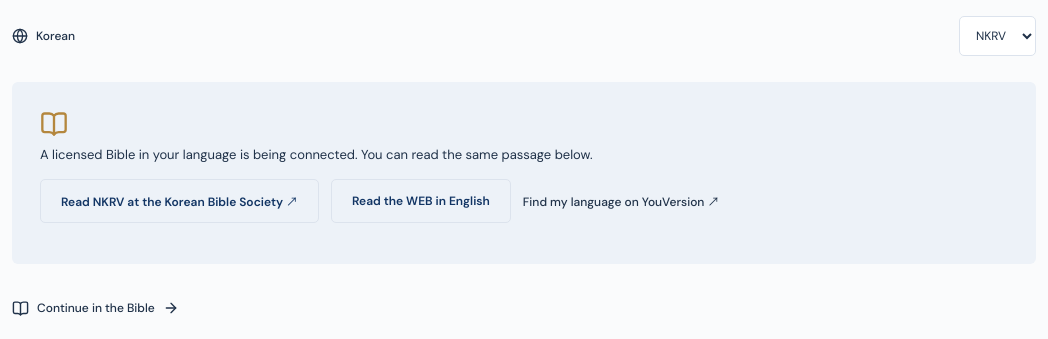
Test: offers an official external NKRV link without treating licensing as a network failure, then reads the chosen WEB range
This screenshot has width=1048, height=339.
Expected: the link to "https://bible.bskorea.or.kr/bible/NKRV/1CH.14" is shown, [40,179,319,223]
Click the button "Read the WEB in English" at (421, 201), box [331,179,511,223]
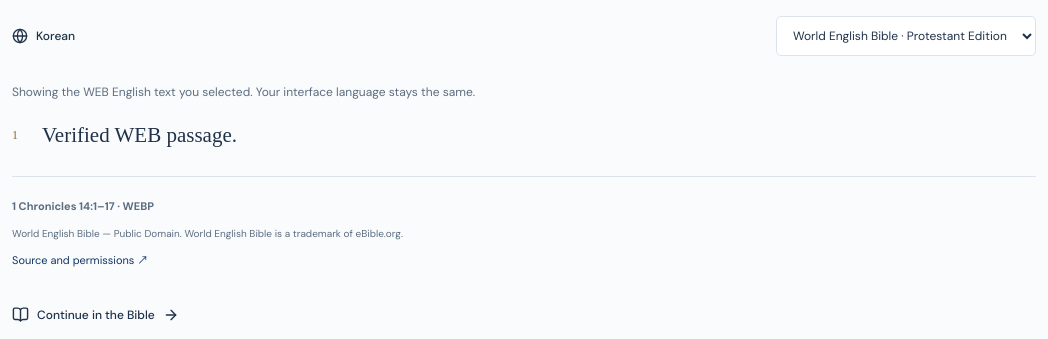
Now the element that starts with "Korean" shows "Verified WEB passage.", box [42,123,237,147]
